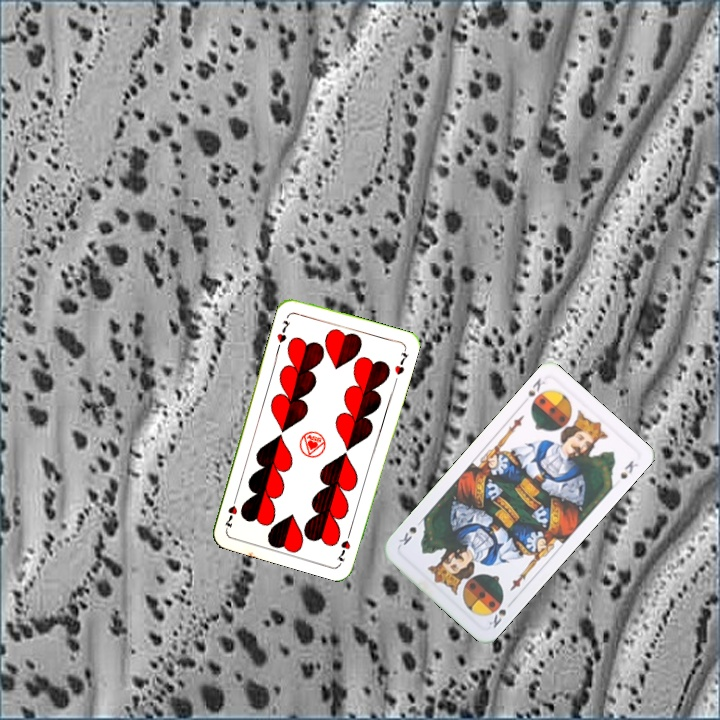H7: (333, 526, 354, 566), (273, 316, 293, 351)
SK: (518, 374, 548, 407), (483, 605, 509, 631)
